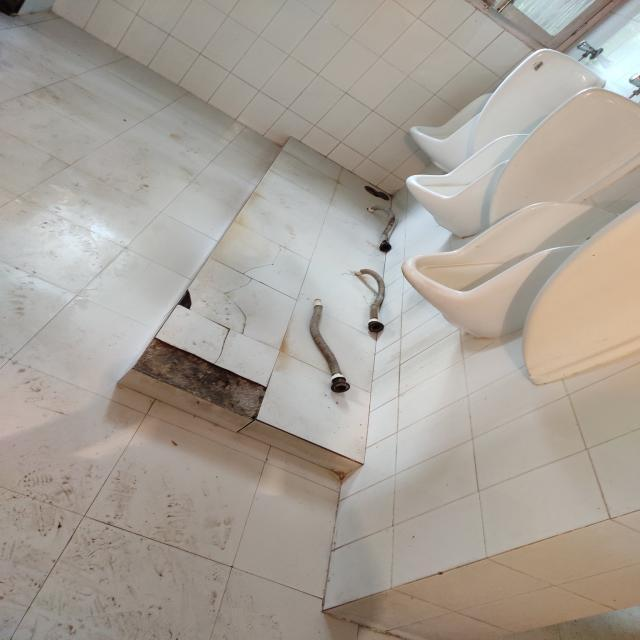dirt-floor: (3, 500, 272, 639), (304, 238, 396, 437)
